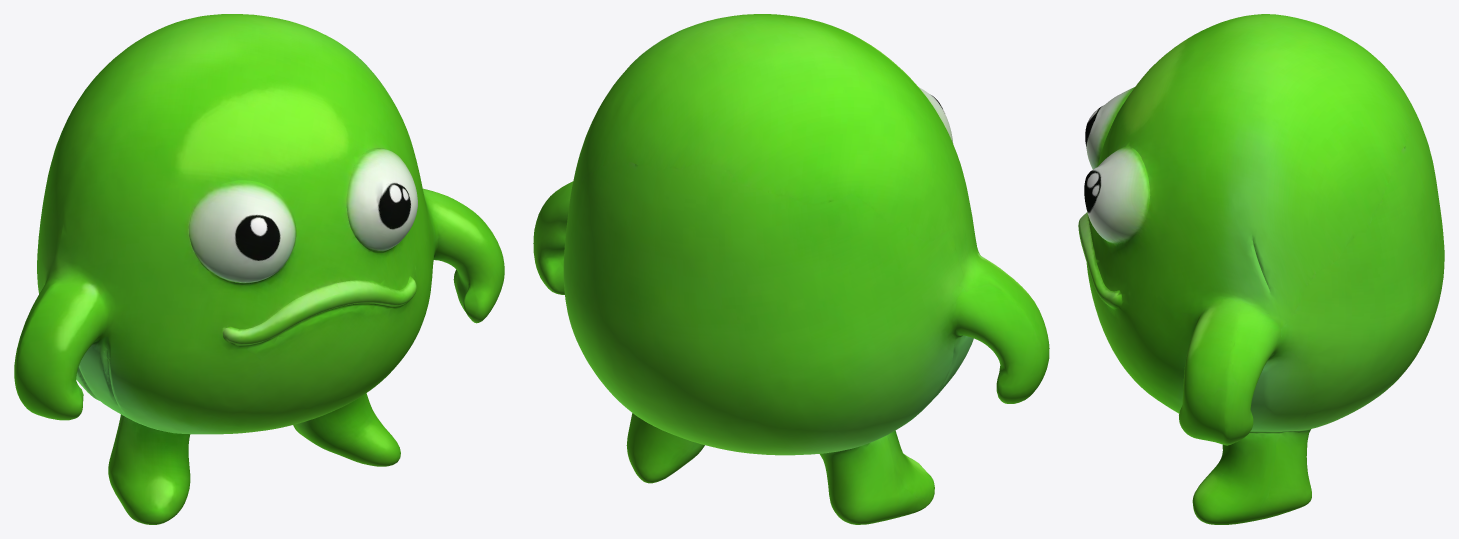
Rendered from m2SlimeBlob.glb.
3 views of the same model, side by side, from view 1: azimuth 30°, elevation 25°; view 2: azimuth 150°, elevation 25°; view 3: azimuth 270°, elevation 25° (orthographic). The views are drawn at different scales.
Visible parts, largest first — view 1: model; view 2: model; view 3: model.
Boxes of the visible parts, <box> form: model: <box>14,14,504,524</box>; model: <box>533,14,1049,524</box>; model: <box>1078,14,1444,524</box>.
Bounding box in the file's own units: 1.9 × 1.67 × 1.29.
Materials: 1 (1 with a texture image).
